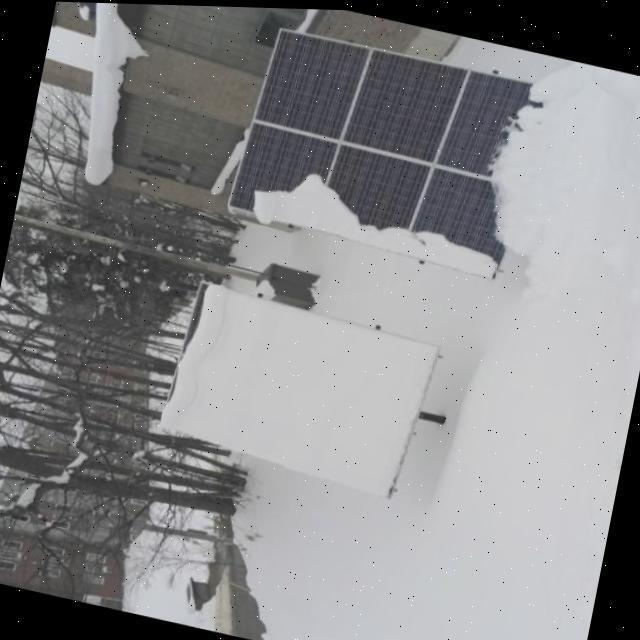Anomaly Solar Panel: (227, 27, 557, 276), (159, 278, 442, 496)
Snow: (160, 282, 440, 494), (252, 169, 499, 275), (485, 77, 555, 242)
